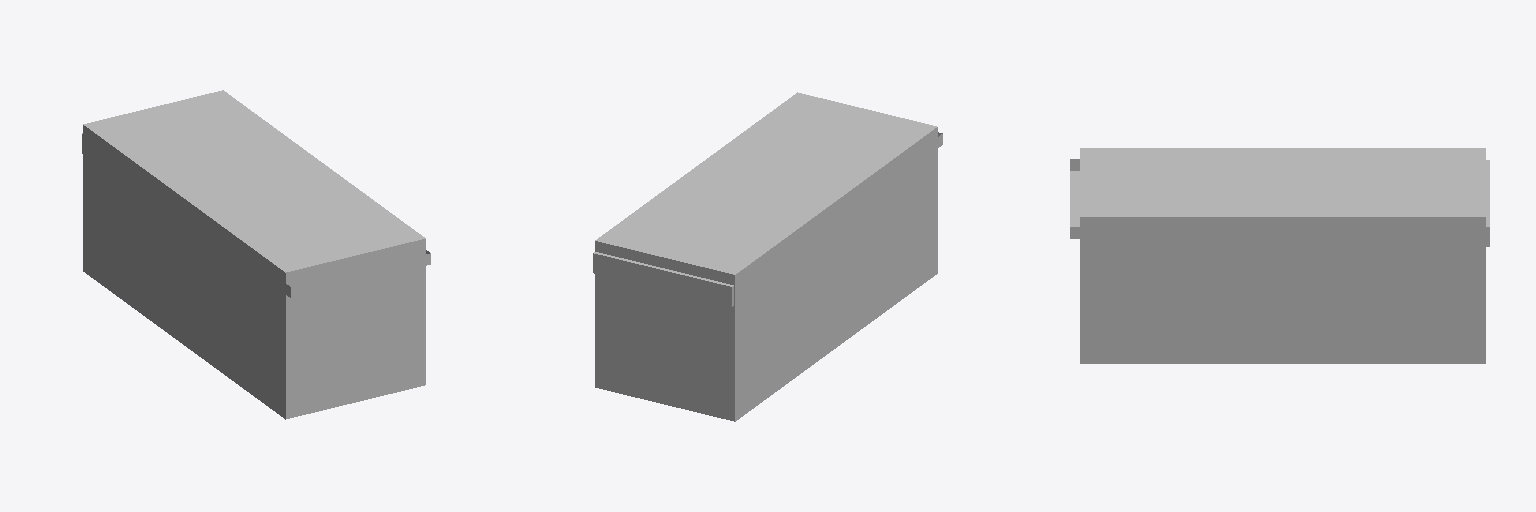
The model's file is Building6.obj.
3 views of the same model, side by side, from view 1: azimuth 30°, elevation 25°; view 2: azimuth 150°, elevation 25°; view 3: azimuth 270°, elevation 25° (orthographic).
Parts seen in each view (by area): view 1: Building6_-col, TCom_Shops0285_S; view 2: Building6_-col, TCom_Shops0244_S; view 3: Building6_-col, TCom_Shops0285_S.
Boxes of the visible parts, <box> form: Building6_-col: <box>83,90,425,419</box>; TCom_Shops0285_S: <box>286,250,430,416</box>; Building6_-col: <box>595,92,937,421</box>; TCom_Shops0244_S: <box>593,252,733,306</box>; Building6_-col: <box>1080,148,1485,363</box>; TCom_Shops0285_S: <box>1070,159,1079,238</box>.
Bounding box in the file's own units: 3.83 × 3.83 × 9.94.